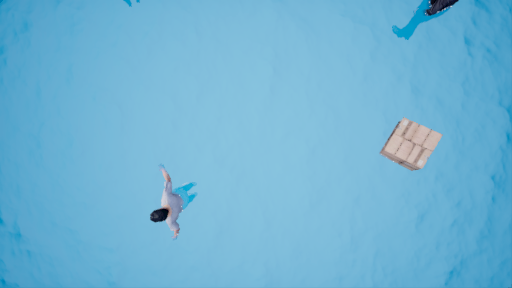person: (155, 162, 204, 239)
